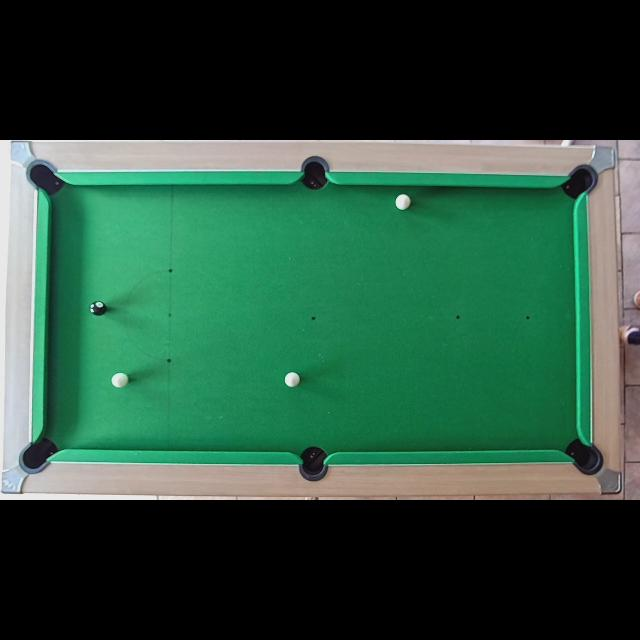Ball: (112, 372, 128, 388), (284, 372, 300, 388), (90, 301, 106, 315), (396, 196, 410, 210)
